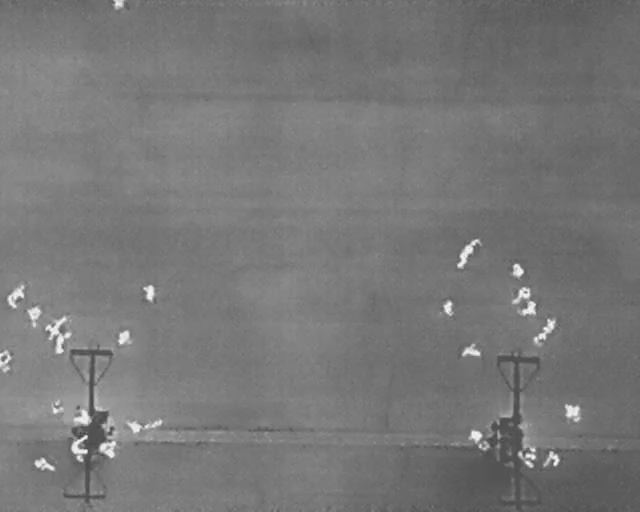Person: (451, 232, 482, 275), (506, 283, 534, 308), (68, 434, 89, 463), (516, 299, 540, 322), (44, 313, 65, 339), (517, 445, 537, 469), (72, 404, 90, 428), (562, 402, 582, 423), (32, 456, 58, 472), (542, 451, 561, 471), (98, 440, 117, 458), (27, 305, 41, 328), (141, 283, 156, 304), (0, 348, 13, 372), (126, 418, 143, 436), (461, 343, 482, 357), (54, 335, 67, 356), (510, 262, 525, 280), (117, 329, 132, 346), (542, 315, 556, 333), (467, 427, 482, 443), (533, 332, 547, 347), (442, 299, 453, 318), (51, 399, 63, 416), (12, 283, 24, 299), (478, 439, 490, 454), (6, 293, 17, 309), (111, 0, 125, 11)
